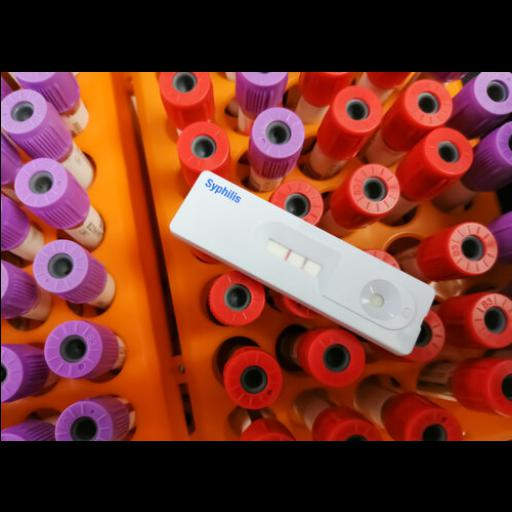Pos: (169, 168, 438, 354)
